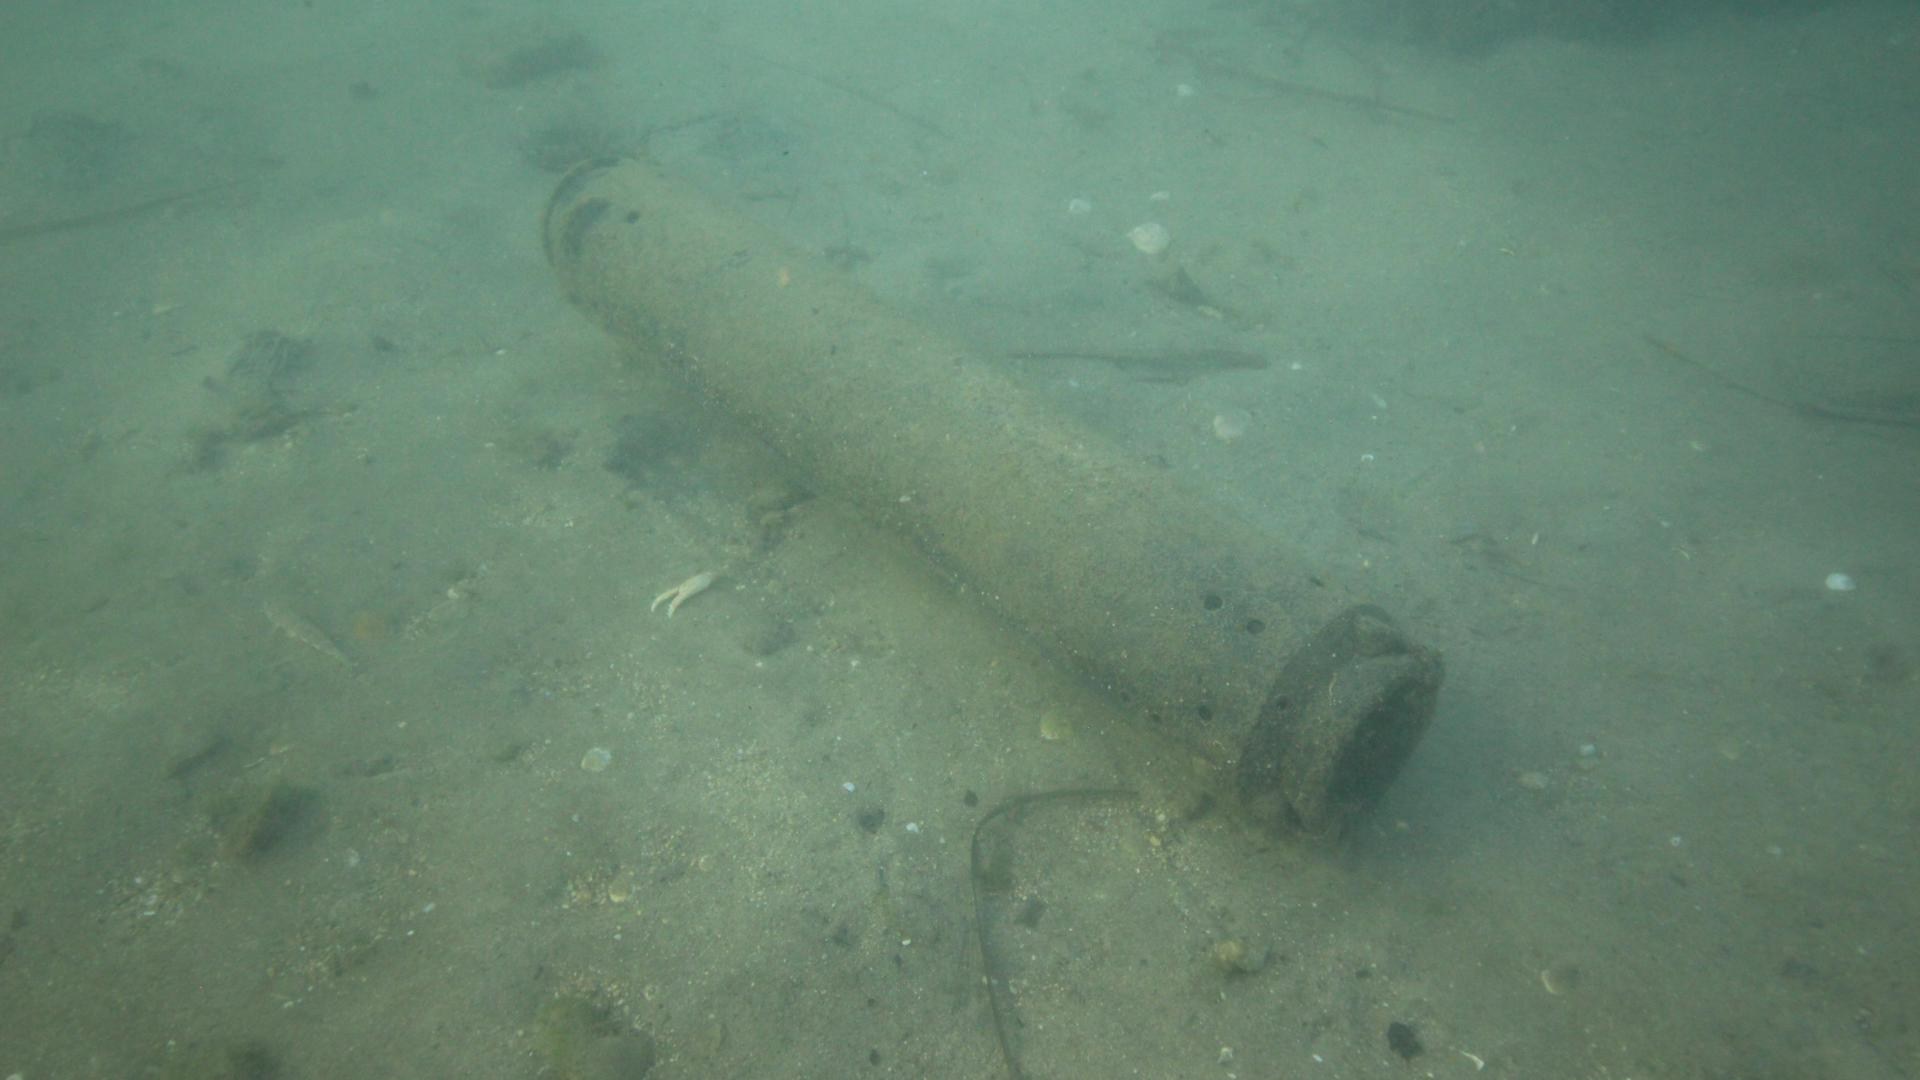eel fish trap: (531, 152, 1447, 828)
